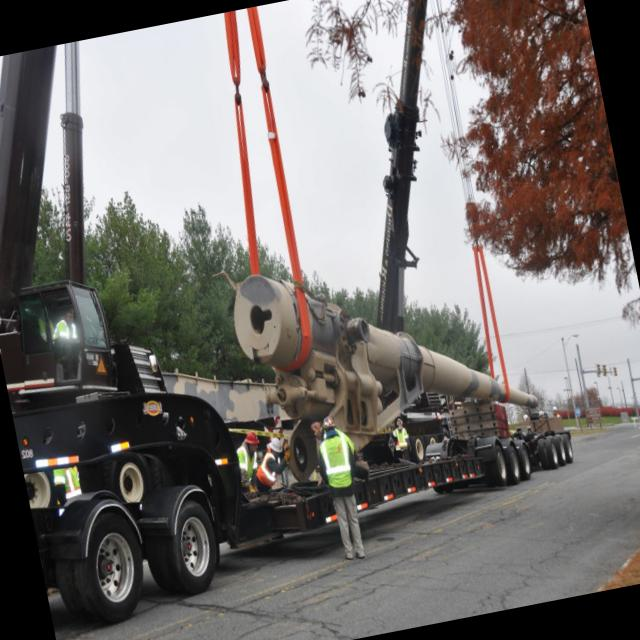rocket: (233, 227, 540, 465)
